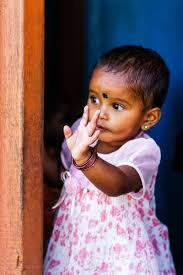Human: (44, 27, 171, 275)
